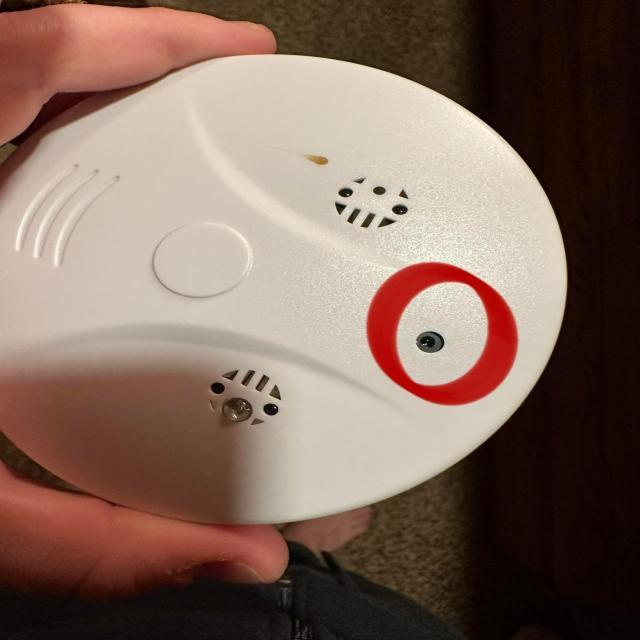hidden camera: (409, 326, 452, 356)
